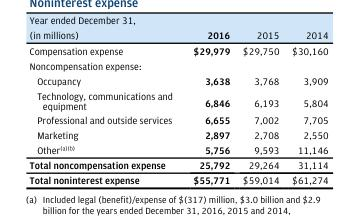table: (28, 29, 327, 185)
table column: (28, 29, 182, 185), (182, 29, 235, 185), (235, 29, 284, 185), (284, 29, 327, 185)
table column header: (28, 29, 327, 42)
table projected row header: (28, 57, 327, 72)
table row: (28, 88, 327, 112), (28, 72, 327, 88), (28, 42, 327, 57), (28, 57, 327, 72), (28, 112, 327, 127), (28, 127, 327, 142), (28, 142, 327, 157), (28, 157, 327, 172), (28, 29, 327, 42), (28, 172, 327, 185)
